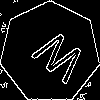W: (25, 27, 89, 93)
